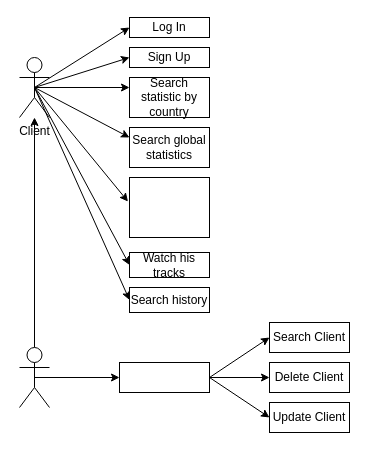
Some shapes in this 367 by 450 pixel diagram are drawn without their labels. The shapes that lost their labels are listed below. From the top down, each one's centre as x and y in pixels, then its label:
At (x=169, y=207): "Search for other clients statistics".
At (x=34, y=377): "Admin".
At (x=164, y=377): "Admin Dashboard".
